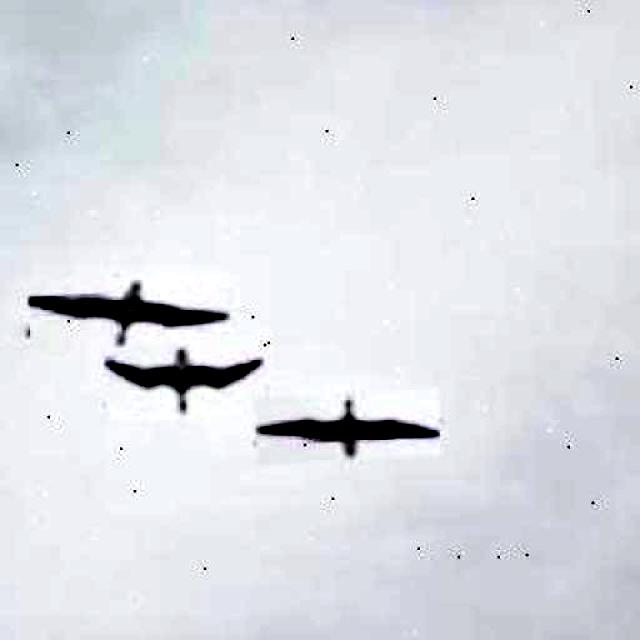airplane: (28, 271, 234, 352), (254, 388, 442, 466), (104, 340, 268, 424)
